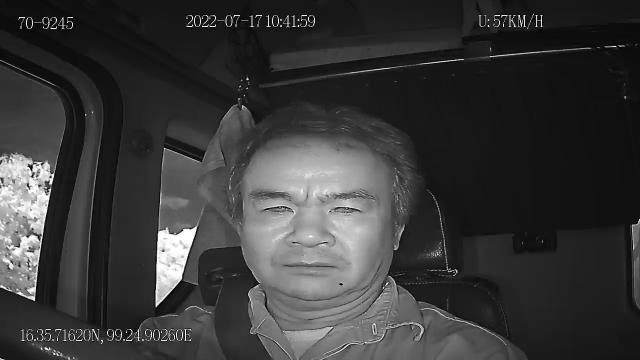SafeDriving: (250, 192, 300, 220), (323, 196, 373, 222)
Seatbelt: (212, 274, 274, 360)
